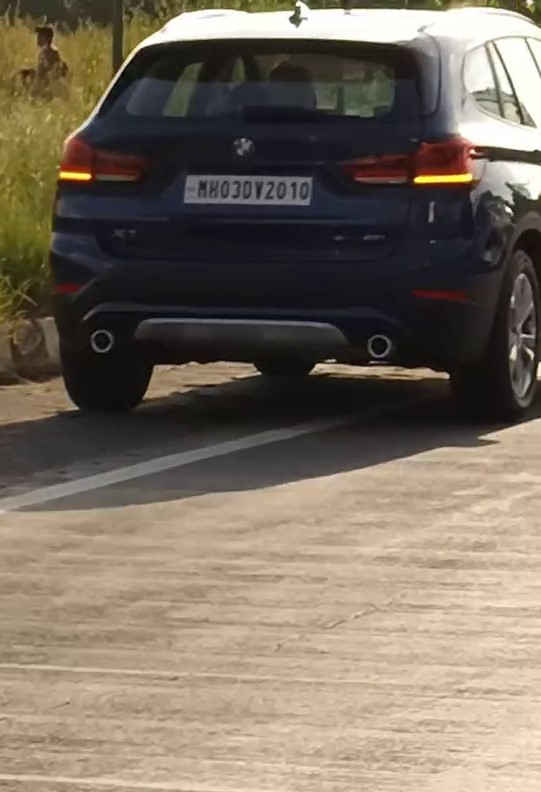MH03DV2010: (181, 171, 312, 206)
